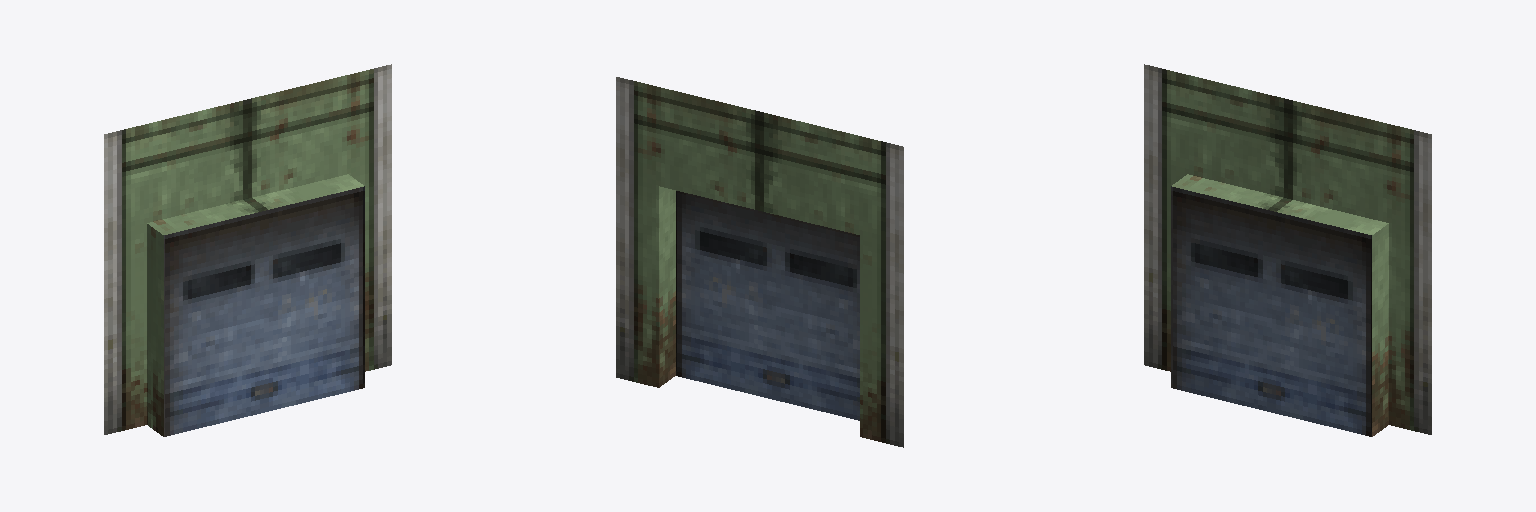
The picture shows the model from 3 angles: view 1: azimuth 30°, elevation 25°; view 2: azimuth 150°, elevation 25°; view 3: azimuth 330°, elevation 25°; orthographic projection.
Parts seen in each view (by area): view 1: wallB_flatGarage; view 2: wallB_flatGarage; view 3: wallB_flatGarage.
Boxes of the visible parts, x1,y1,x2,y2 form: wallB_flatGarage: [104, 64, 391, 436]; wallB_flatGarage: [616, 77, 903, 447]; wallB_flatGarage: [1144, 64, 1431, 436].
Bounding box in the file's own units: 1 × 1 × 0.1.
Materials: 2 (2 with a texture image).